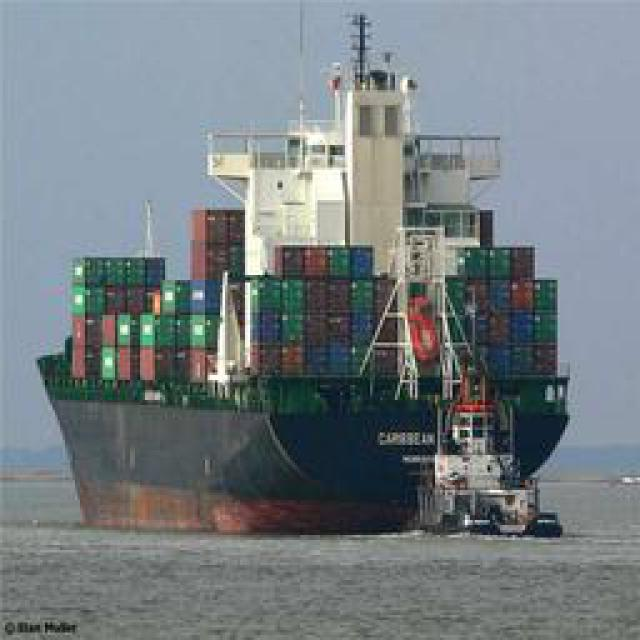Ship: (46, 1, 599, 546)
